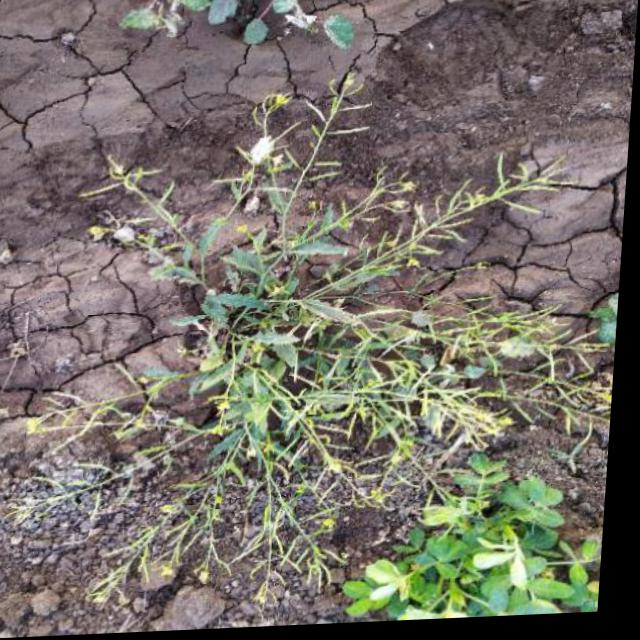weed: (13, 73, 635, 494), (331, 475, 614, 625)
